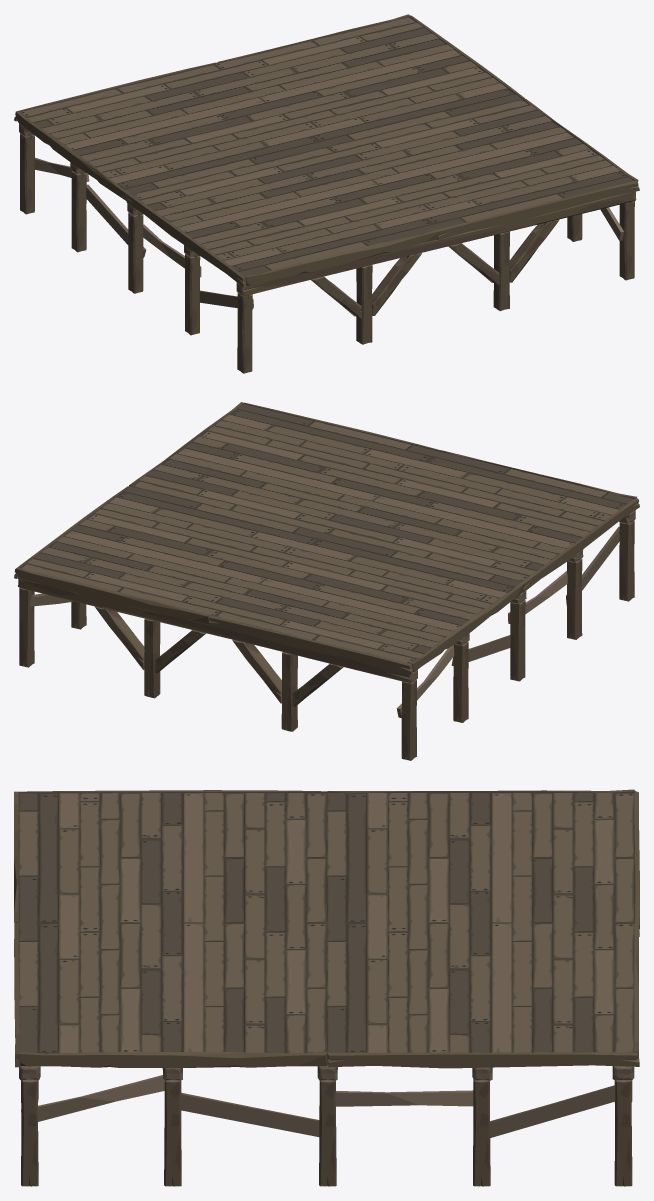
Rendered from kingdom_SM_Prop_Gallows_Platform_02.gltf.
3 views of the same model, one above another, from view 1: azimuth 30°, elevation 25°; view 2: azimuth 150°, elevation 25°; view 3: azimuth 270°, elevation 25° (orthographic). The views are drawn at different scales.
Parts seen in each view (by area): view 1: SM_Prop_Gallows_Platform_02; view 2: SM_Prop_Gallows_Platform_02; view 3: SM_Prop_Gallows_Platform_02.
Boxes of the visible parts, x1,y1,x2,y2 form: SM_Prop_Gallows_Platform_02: (14, 14, 639, 373); SM_Prop_Gallows_Platform_02: (14, 402, 639, 760); SM_Prop_Gallows_Platform_02: (14, 789, 639, 1186).
Bounding box in the file's own units: 6.41 × 1.52 × 6.4.
1 material, 1 textured.
